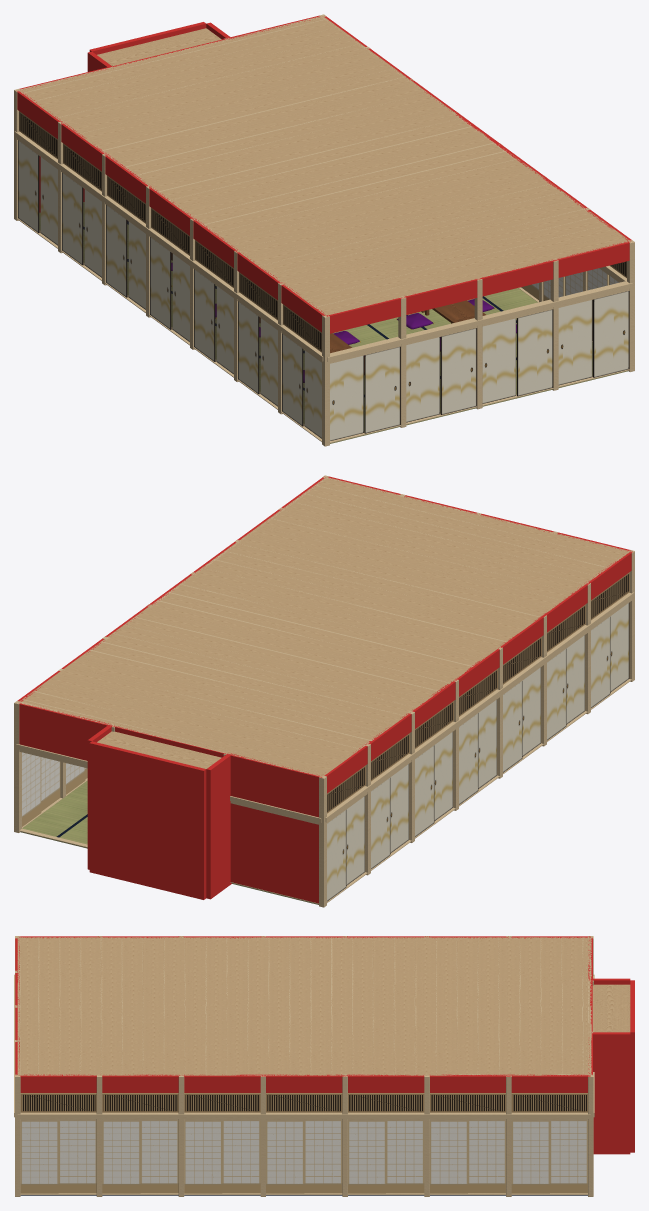
Rendered from enkaijou.fbx.
The picture shows the model from 3 angles, top to bottom: view 1: azimuth 30°, elevation 25°; view 2: azimuth 150°, elevation 25°; view 3: azimuth 270°, elevation 25°; orthographic projection. The views are drawn at different scales.
Visible parts, largest first — view 1: Ceiling_Lights, Walls_Fittings, Tatami_40, Tokonoma, Zabuton_47, Zataku_07; view 2: Ceiling_Lights, Walls_Fittings, Tokonoma, Tatami_40; view 3: Ceiling_Lights, Walls_Fittings, Tokonoma, Tatami_40.
Boxes of the visible parts, x1,y1,x2,y2 form: Ceiling_Lights: (18, 16, 630, 315); Walls_Fittings: (14, 14, 634, 446); Tatami_40: (39, 202, 627, 443); Tokonoma: (87, 22, 230, 71); Zabuton_47: (171, 263, 516, 382); Zataku_07: (425, 300, 483, 323); Ceiling_Lights: (18, 477, 630, 776); Walls_Fittings: (14, 475, 634, 907); Tokonoma: (87, 725, 231, 899); Tatami_40: (21, 781, 318, 904); Ceiling_Lights: (17, 937, 630, 1075); Walls_Fittings: (14, 936, 594, 1196); Tokonoma: (590, 978, 634, 1154); Tatami_40: (20, 1195, 587, 1195).
Size of the model in its own units: 720 by 285 by 1335.
Materials: 22 (12 with a texture image).
